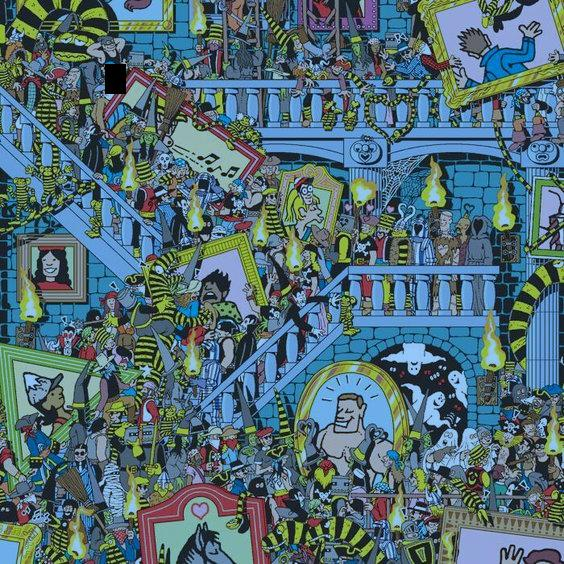waldos: (294, 175, 315, 205)
